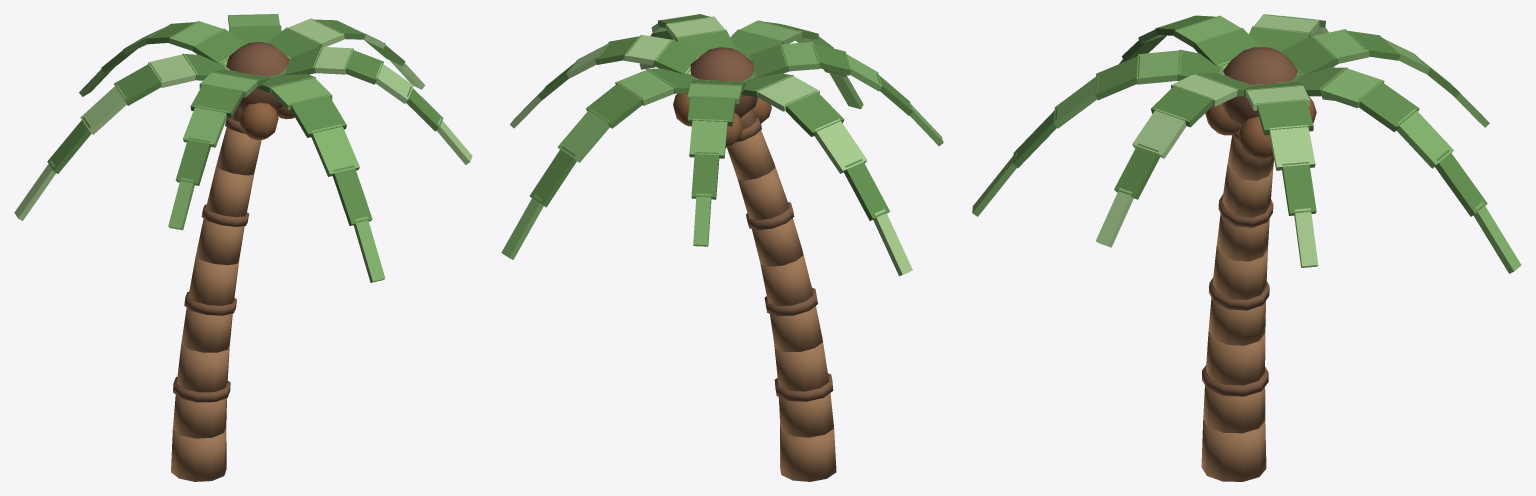
The model's file is palm.glb.
The picture shows the model from 3 angles, left to right: view 1: azimuth 30°, elevation 25°; view 2: azimuth 150°, elevation 25°; view 3: azimuth 270°, elevation 25°; orthographic projection. The views are drawn at different scales.
Visible parts, largest first — view 1: palm; view 2: palm; view 3: palm.
Boxes of the visible parts, x1,y1,x2,y2 form: palm: (14,14,472,481); palm: (501,14,943,481); palm: (972,14,1521,481).
Bounding box in the file's own units: 3.89 × 3.74 × 4.06.
